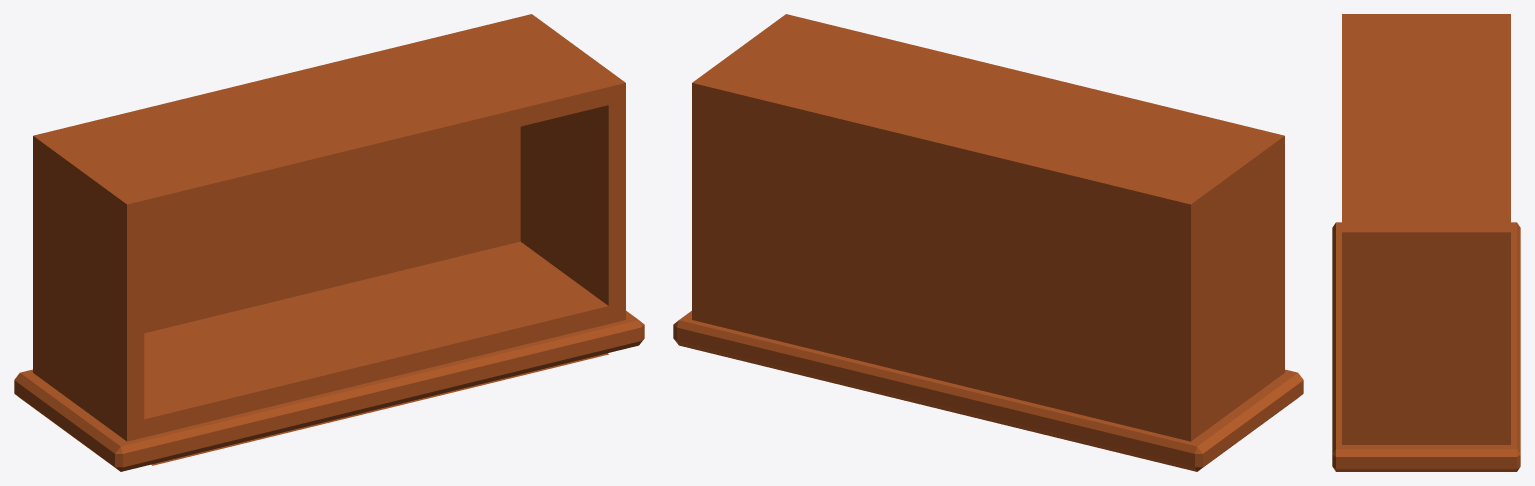
The model's file is DrawermeshDresserDrawer_323_4_4.obj.
3 renders of one model, left to right at view 1: azimuth 30°, elevation 25°; view 2: azimuth 150°, elevation 25°; view 3: azimuth 270°, elevation 25°, orthographic. The views are drawn at different scales.
Visible parts, largest first — view 1: DresserDrawer_323_4; view 2: DresserDrawer_323_4; view 3: DresserDrawer_323_4.
Boxes of the visible parts, x1,y1,x2,y2 form: DresserDrawer_323_4: [14, 14, 644, 471]; DresserDrawer_323_4: [673, 14, 1303, 471]; DresserDrawer_323_4: [1332, 14, 1520, 471].
Size of the model in its own units: 0.7688 by 0.367 by 0.2639.
